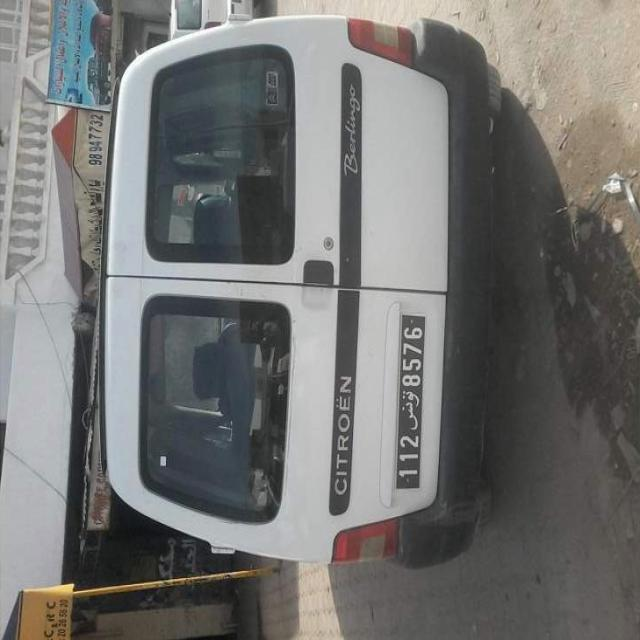licence plate: (396, 314, 427, 491)
